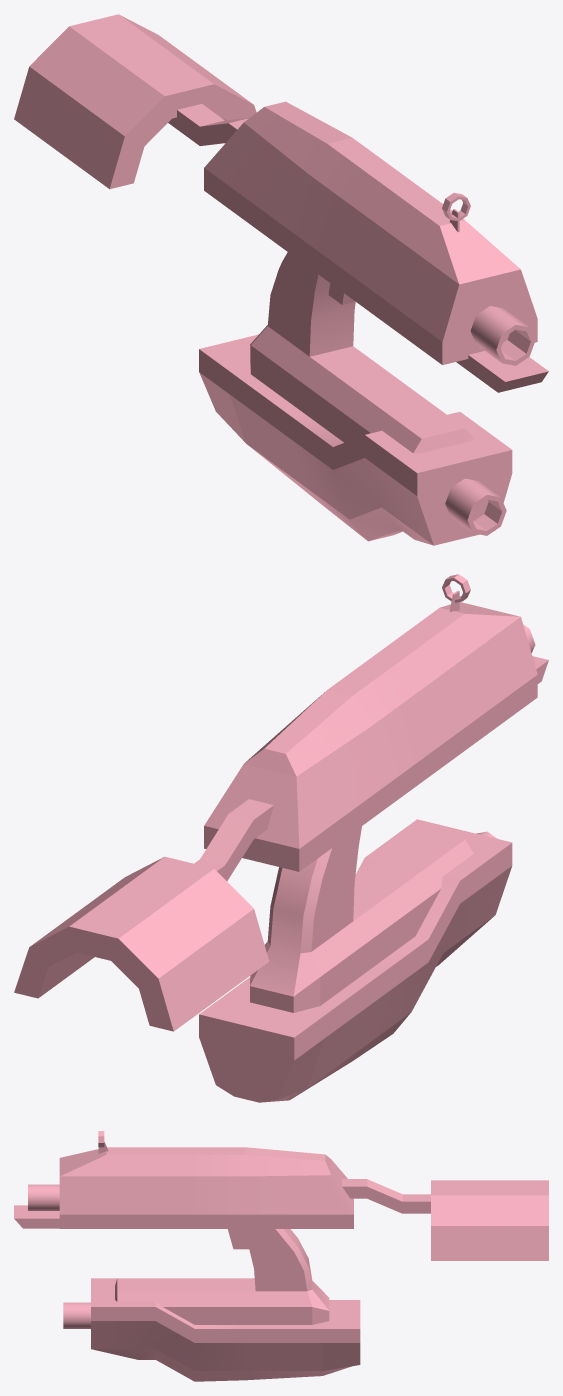
The model's file is SMG.fbx.
The picture shows the model from 3 angles, top to bottom: view 1: azimuth 30°, elevation 25°; view 2: azimuth 150°, elevation 25°; view 3: azimuth 270°, elevation 25°; orthographic projection. The views are drawn at different scales.
Visible parts, largest first — view 1: SMG; view 2: SMG; view 3: SMG.
Boxes of the visible parts, box(x1,y1,x2,y2) form: SMG: box(14, 14, 548, 545); SMG: box(14, 574, 548, 1102); SMG: box(14, 1131, 548, 1381).
Bounding box in the file's own units: 1.81 × 4.32 × 8.49.
